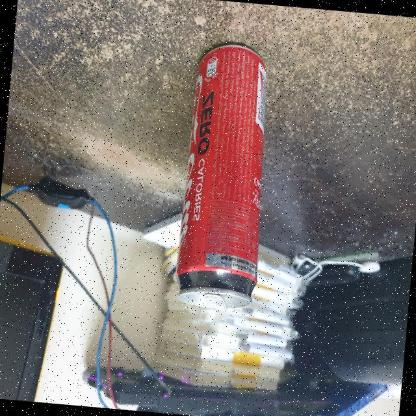Can: (160, 27, 288, 321)
